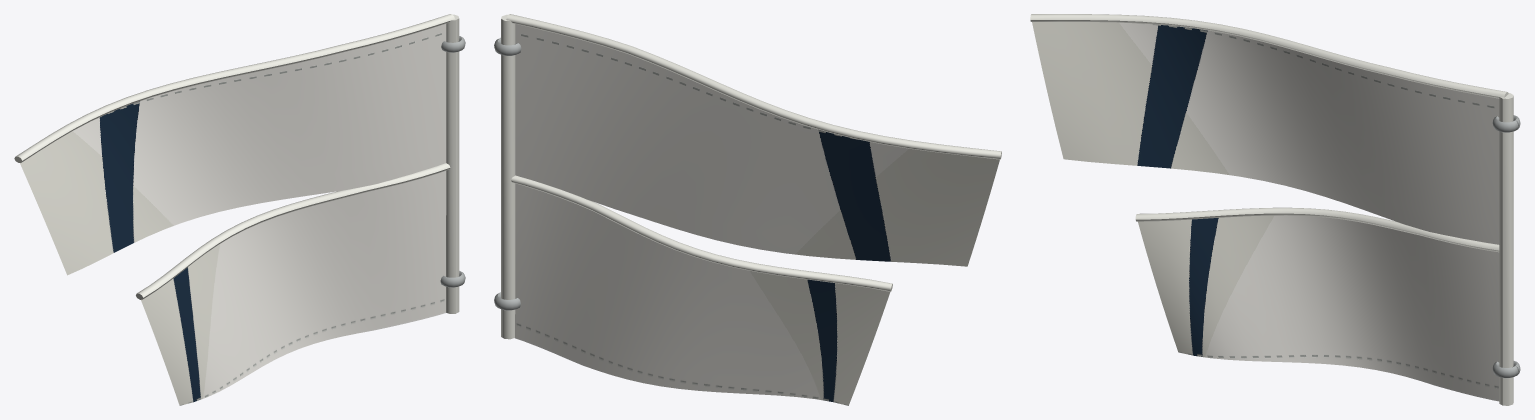
The model's file is Pennant_21_SR_漆朱・白抜き.glb.
3 views of the same model, side by side, from view 1: azimuth 30°, elevation 25°; view 2: azimuth 150°, elevation 25°; view 3: azimuth 330°, elevation 25° (orthographic). The views are drawn at different scales.
Parts seen in each view (by area): view 1: Pennant_21_SR; view 2: Pennant_21_SR; view 3: Pennant_21_SR.
Part boxes in pixels (bbox=[...]): Pennant_21_SR: bbox=[14, 14, 465, 405]; Pennant_21_SR: bbox=[494, 14, 1001, 405]; Pennant_21_SR: bbox=[1030, 14, 1520, 405].
Size of the model in its own units: 0.2935 by 0.187 by 0.0432.
Materials: 3 (3 with a texture image).
